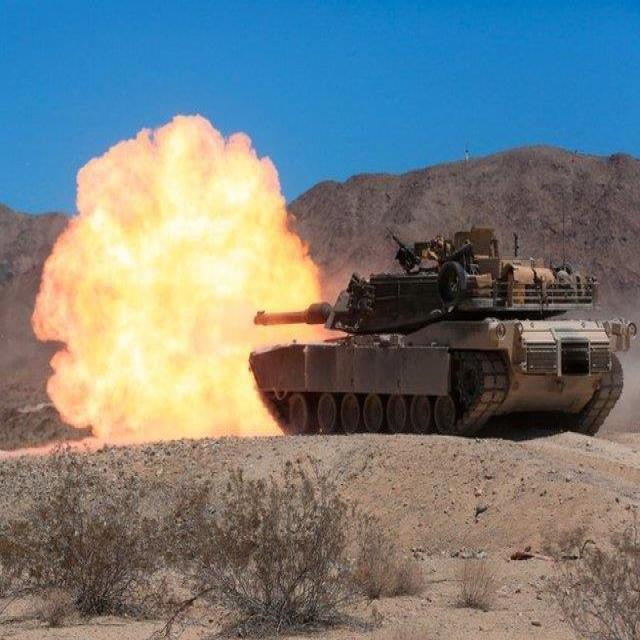Tanks: (242, 222, 572, 438)
